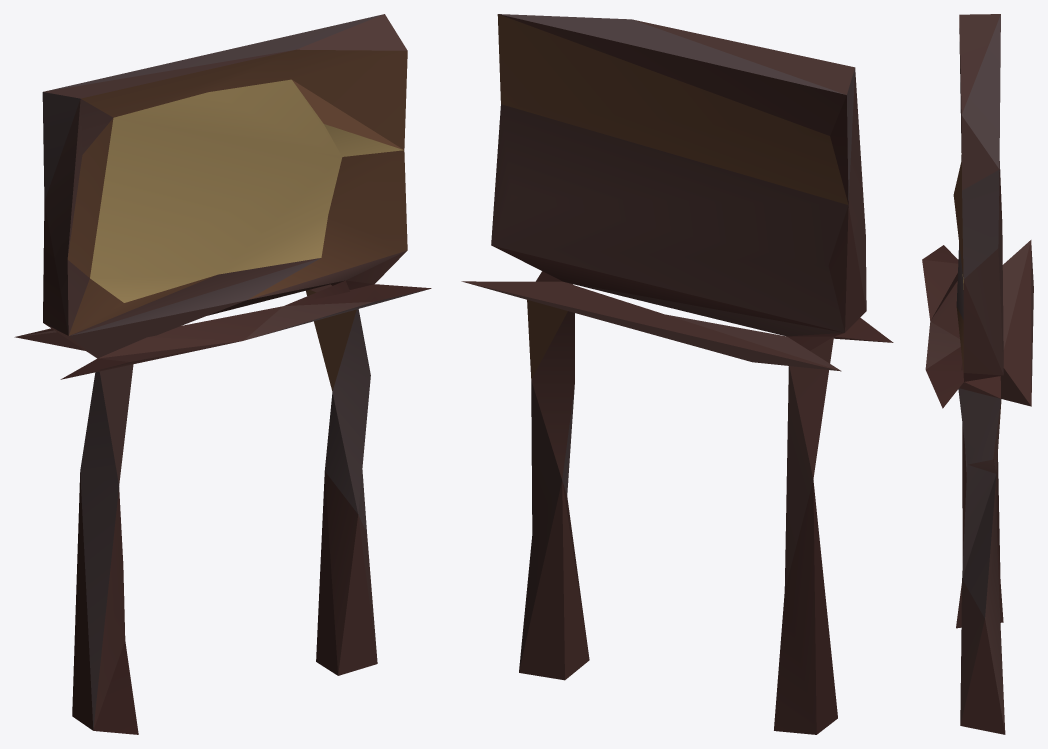
The model's file is bg_city_billboard_1_lod2.glb.
The picture shows the model from 3 angles, left to right: view 1: azimuth 30°, elevation 25°; view 2: azimuth 150°, elevation 25°; view 3: azimuth 270°, elevation 25°; orthographic projection. The views are drawn at different scales.
Parts seen in each view (by area): view 1: body; view 2: body; view 3: body.
Boxes of the visible parts, x1,y1,x2,y2 form: body: (14, 14, 431, 734); body: (461, 14, 893, 734); body: (922, 14, 1033, 734).
Bounding box in the file's own units: 3.56 × 5.91 × 1.02.
